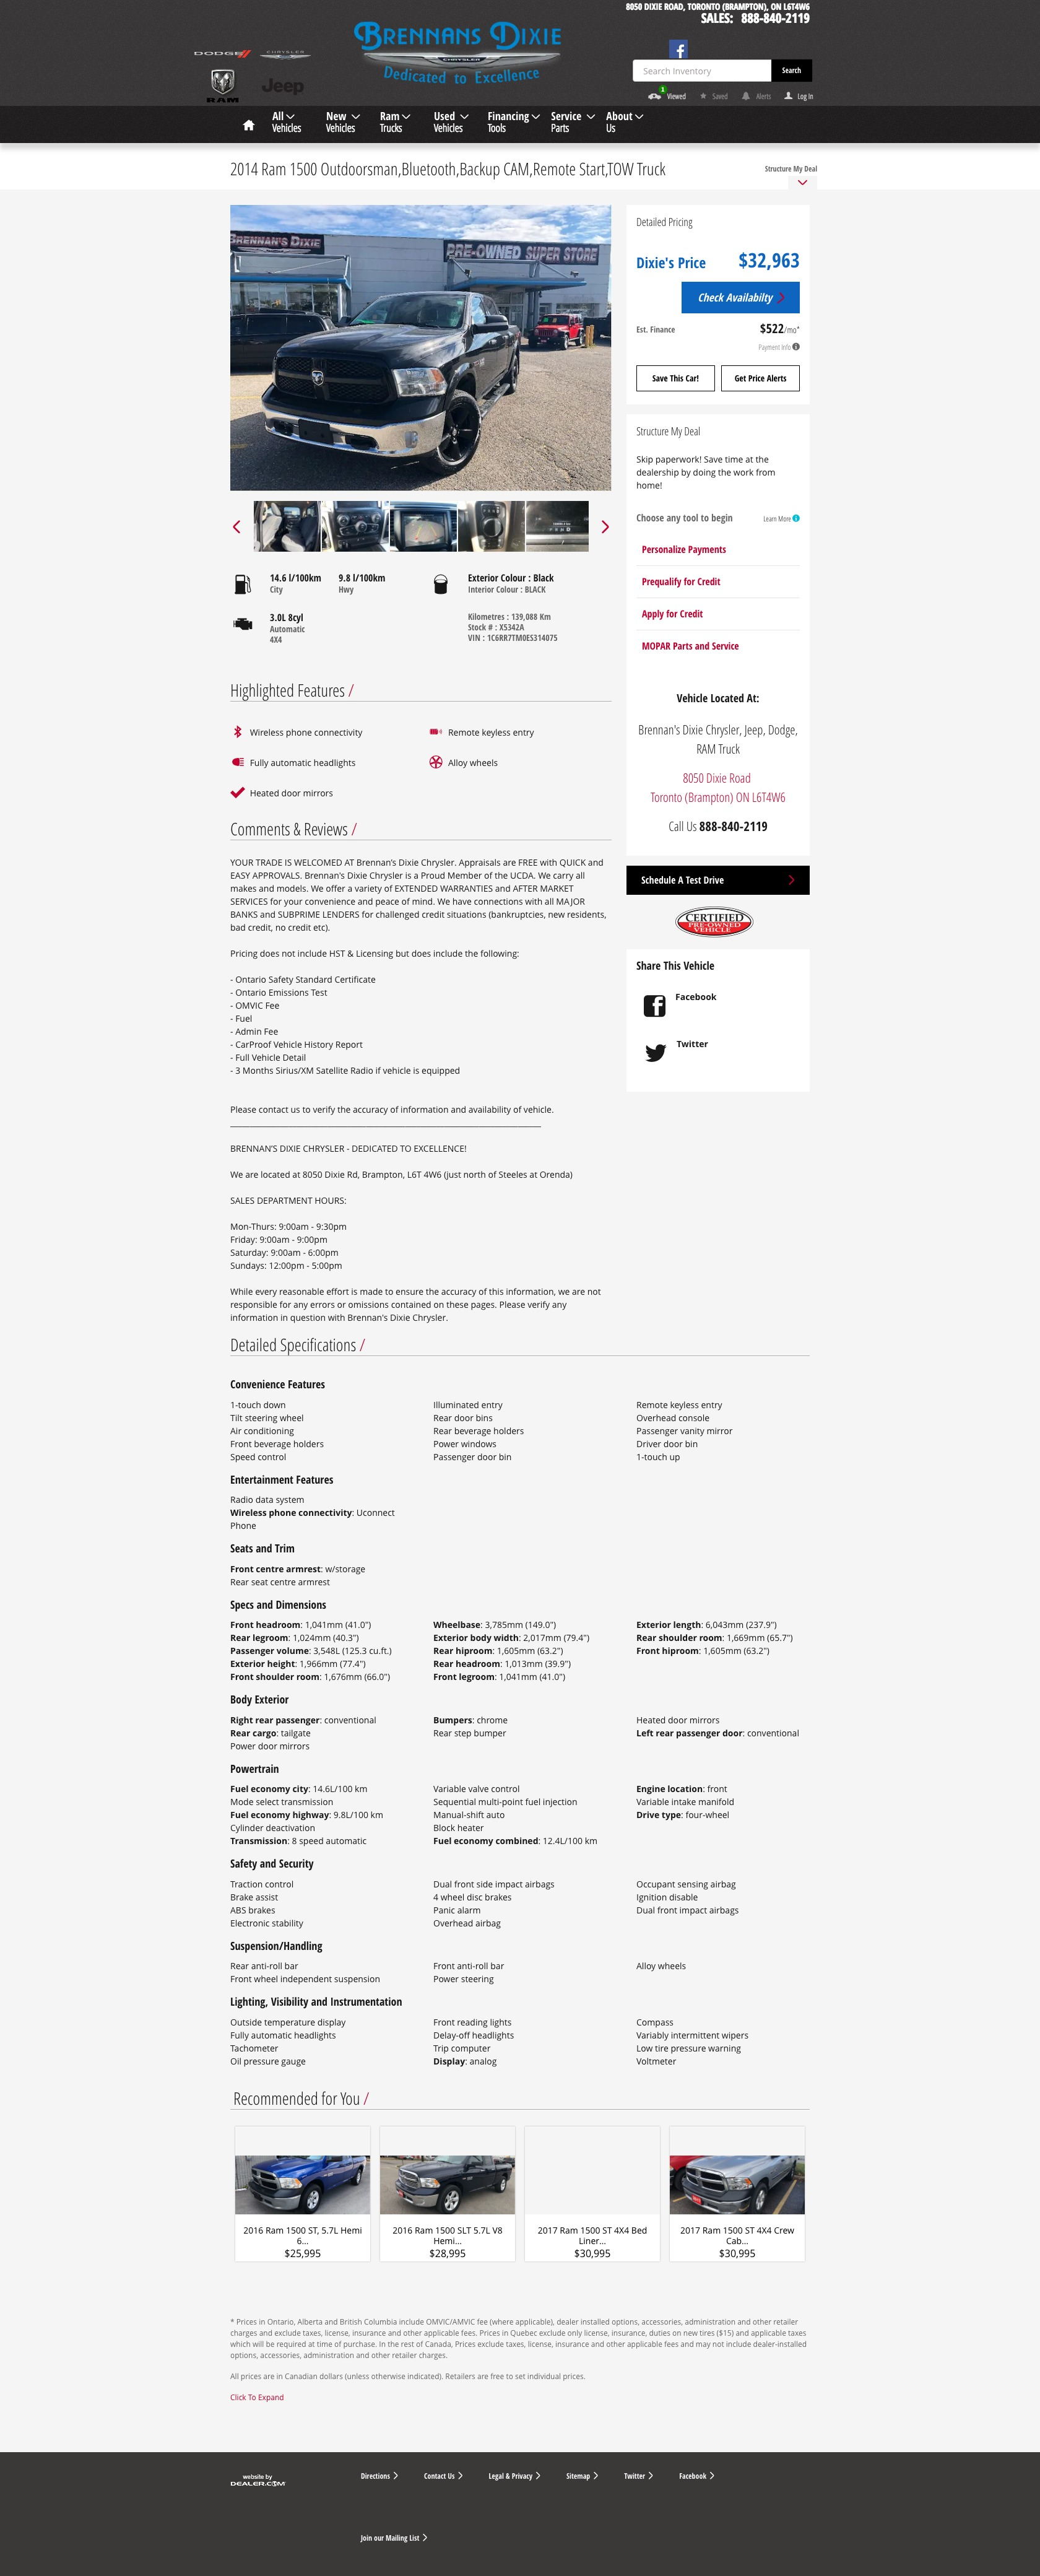car: (600, 521, 611, 534)
